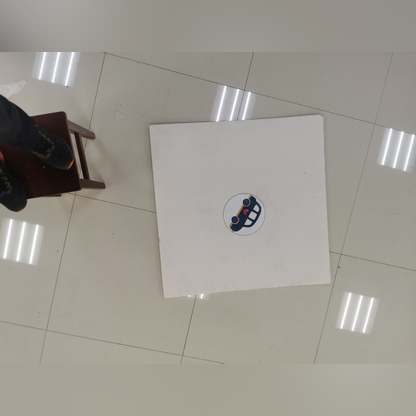car: (214, 184, 259, 234)
